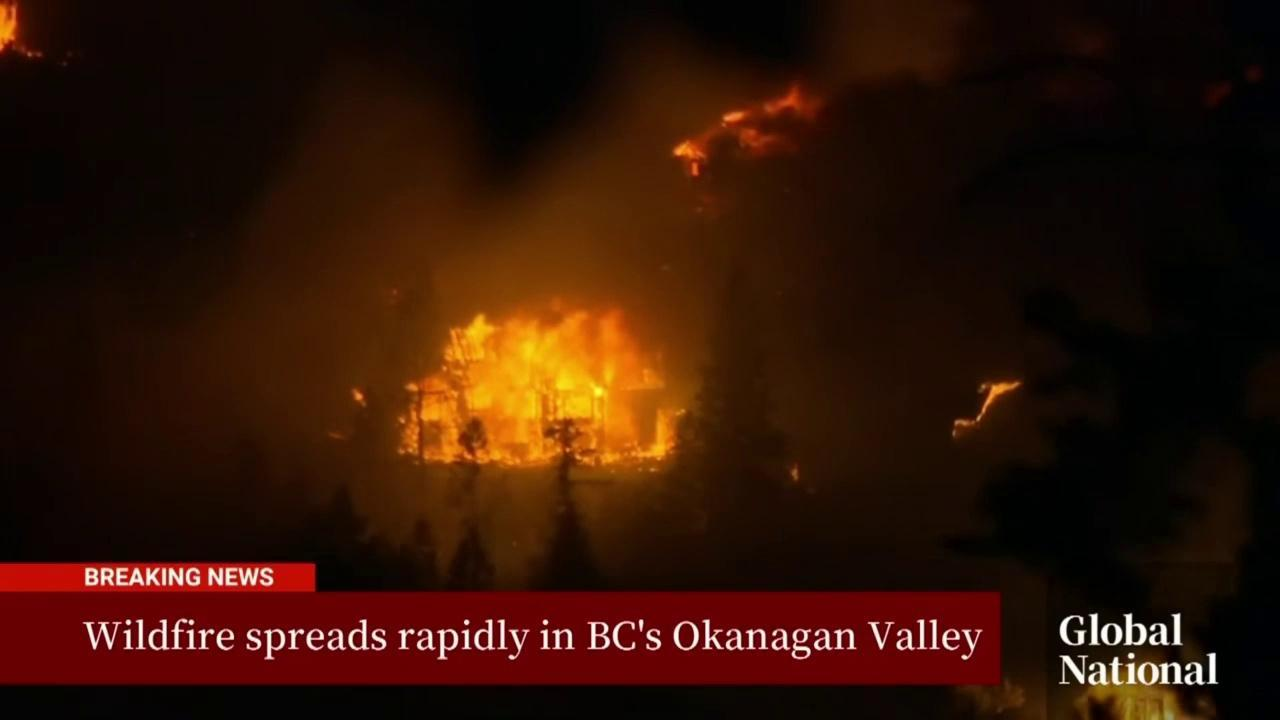fire: (385, 297, 696, 482), (672, 79, 823, 184), (945, 375, 1026, 445), (0, 0, 49, 65), (787, 462, 802, 492), (324, 428, 350, 442), (350, 388, 369, 407)
smoke: (181, 0, 976, 584)
